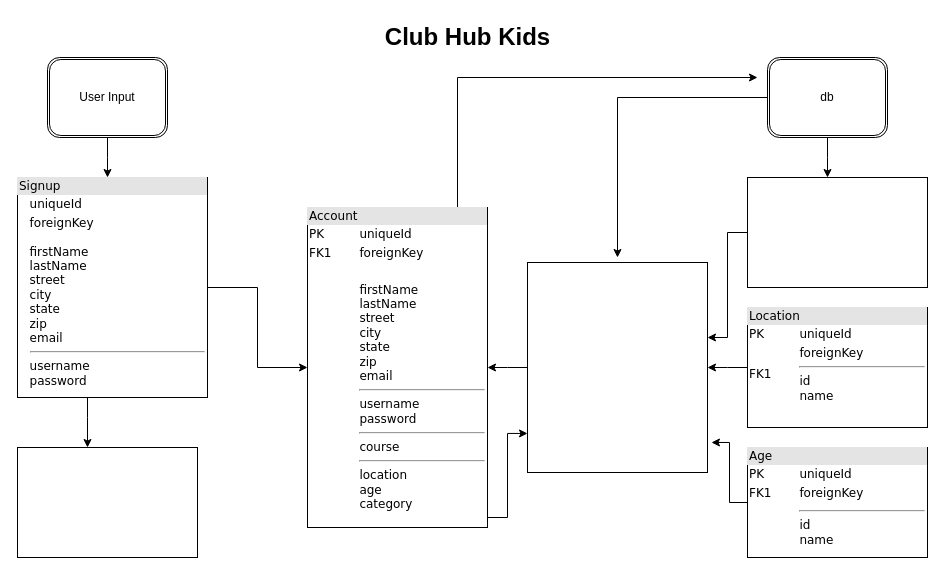
This 945x583 diagram has some shape labels left out. The shapes that lost their labels are listed below. From the top down, each one's centre as x and y in pixels, then its label:
At (837,232): "Category PK uniqueId FK1 foreignKey id name".
At (617,367): "Course PK uniqueId FK1 foreignKey title description url category location age".
At (107,502): "User uniqueId foreignKey username password".
